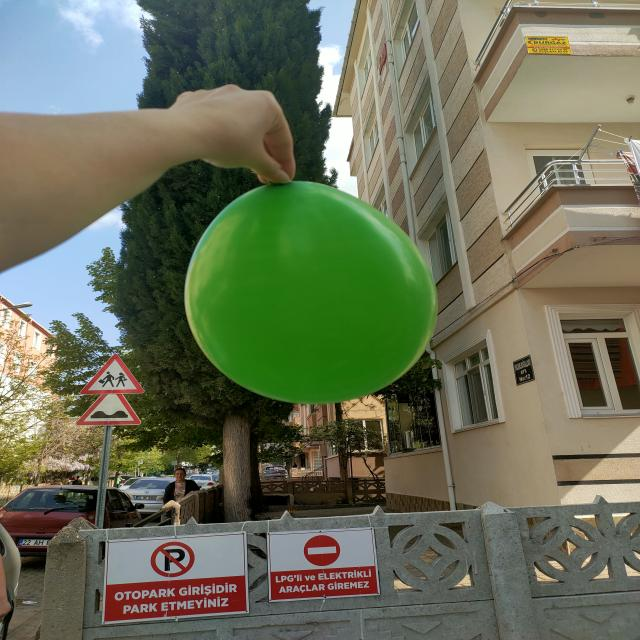green: (185, 181, 436, 404)
